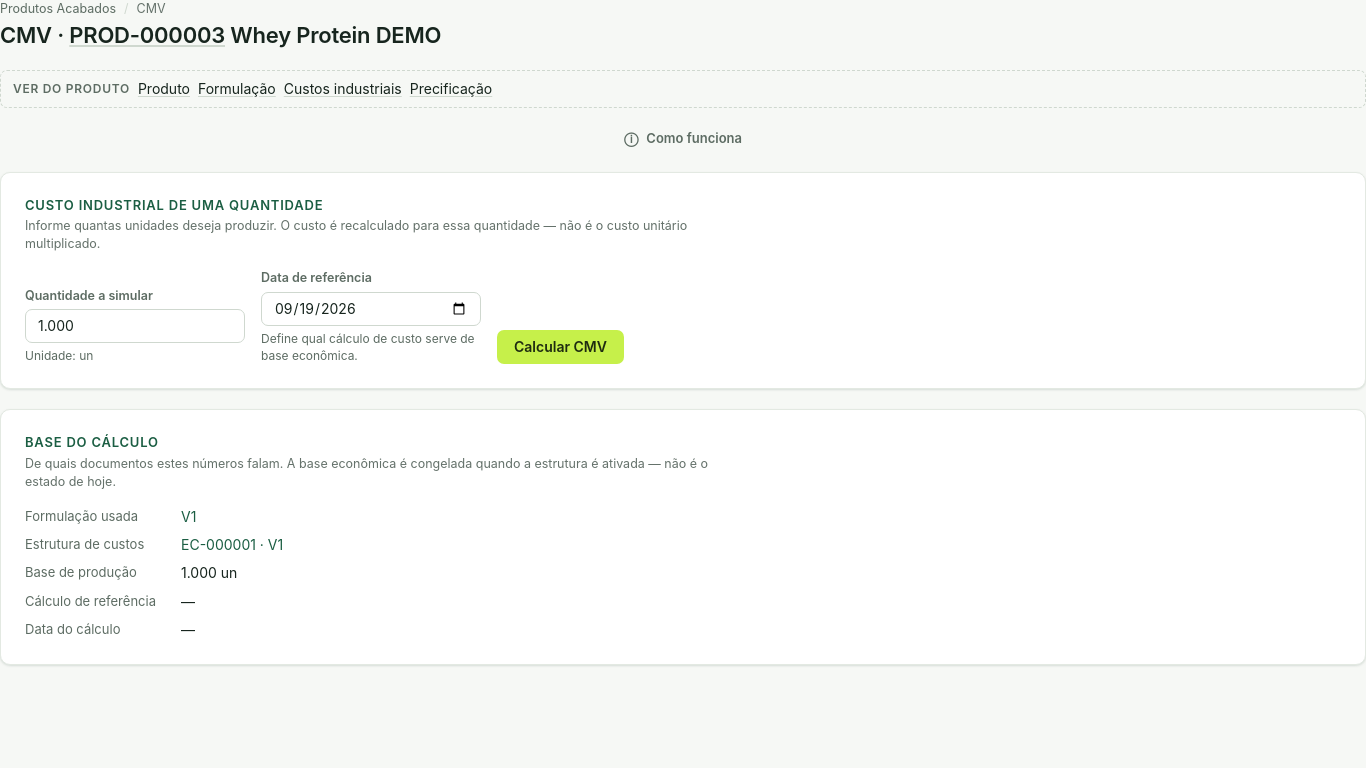
Test: CMV › explica de onde o custo vem — e a explicação começa fechada
Click the button "ⓘ Como funciona". click: [683, 138]
box: [0,124,1365,152]
(page scrolled)
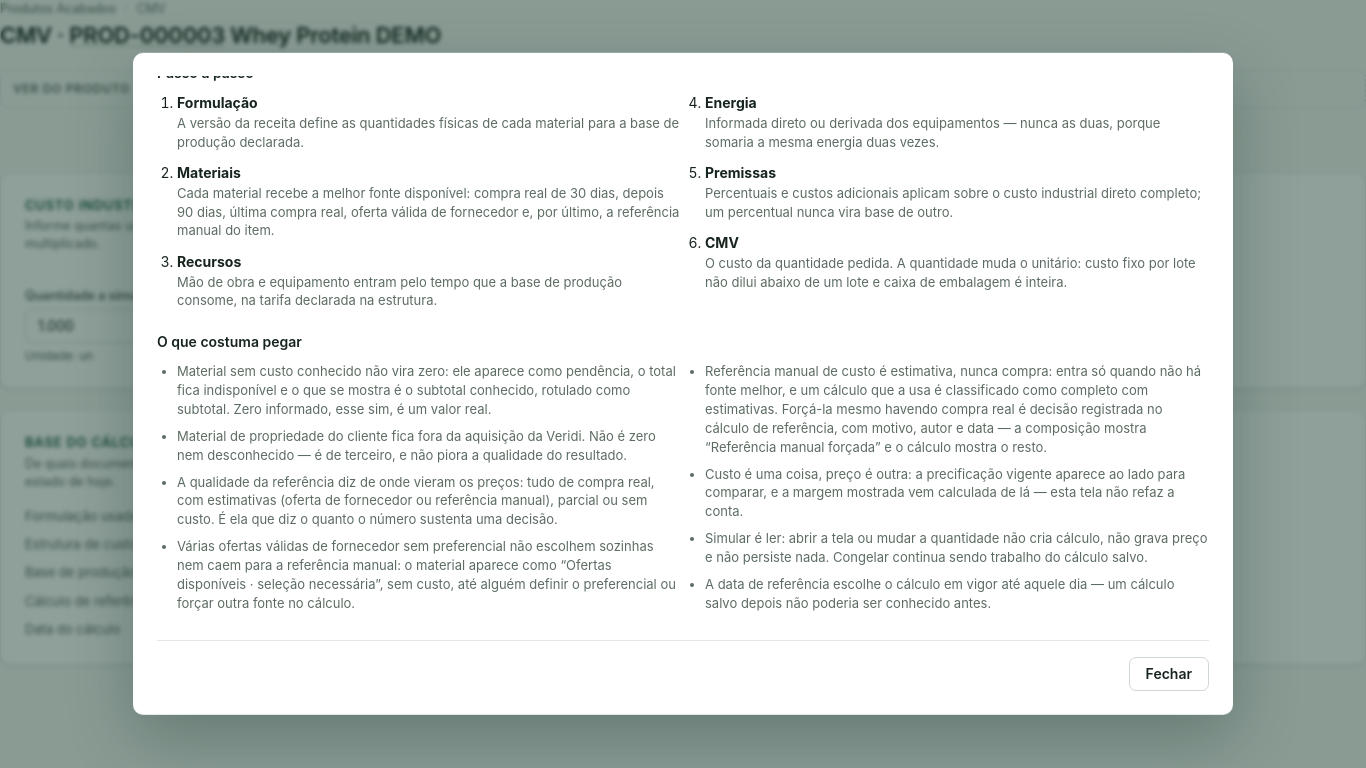
Expected: the button "ⓘ Como funciona" is expanded, [0,124,1365,152]
Expected: the list item "Material sem custo conhecido não vira zero" is shown, [177,363,676,417]
Click the button "Fechar". click: [1169, 674]
box: [1129,657,1209,691]
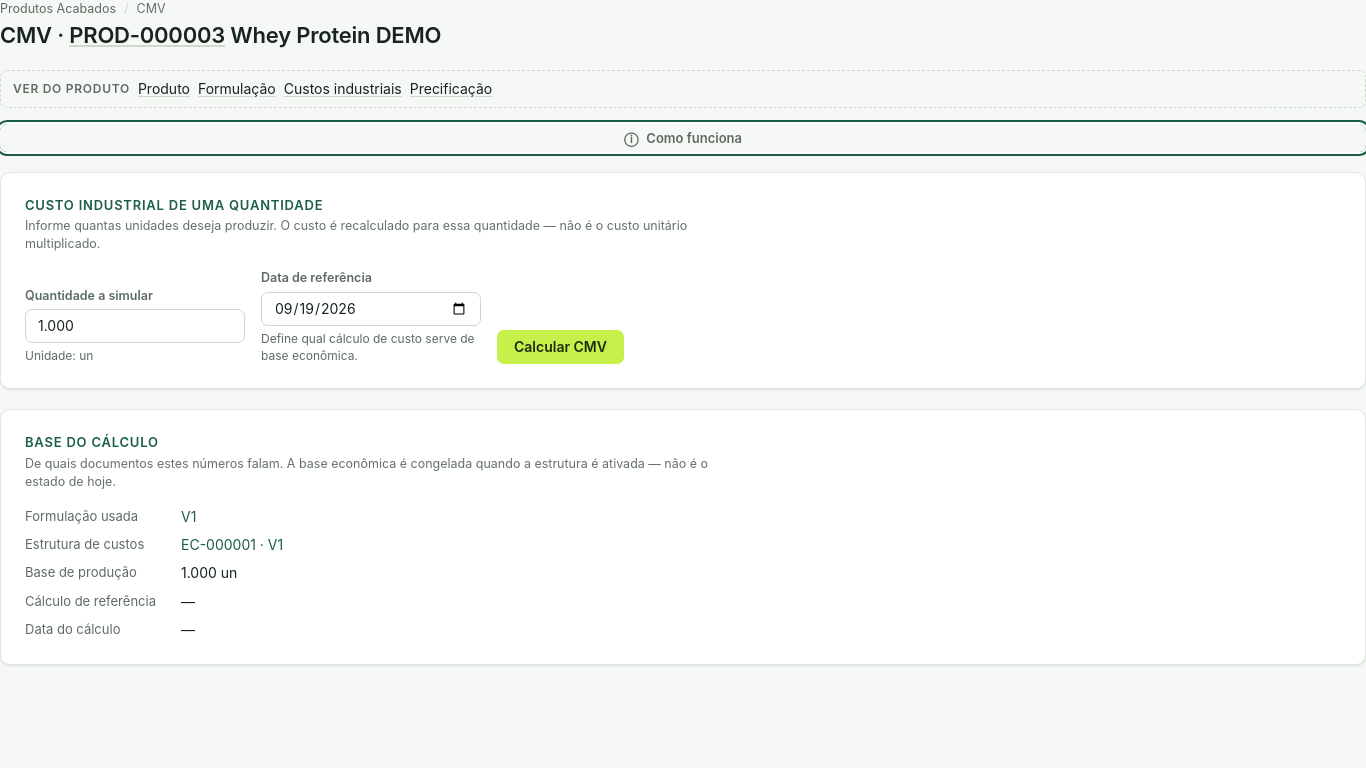
Expected: the button "ⓘ Como funciona" is collapsed, [0,124,1365,152]
